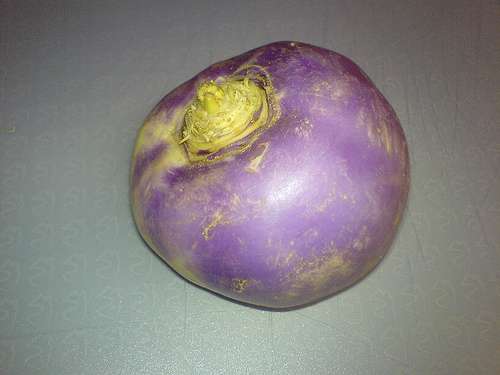turnip: (128, 38, 413, 311)
